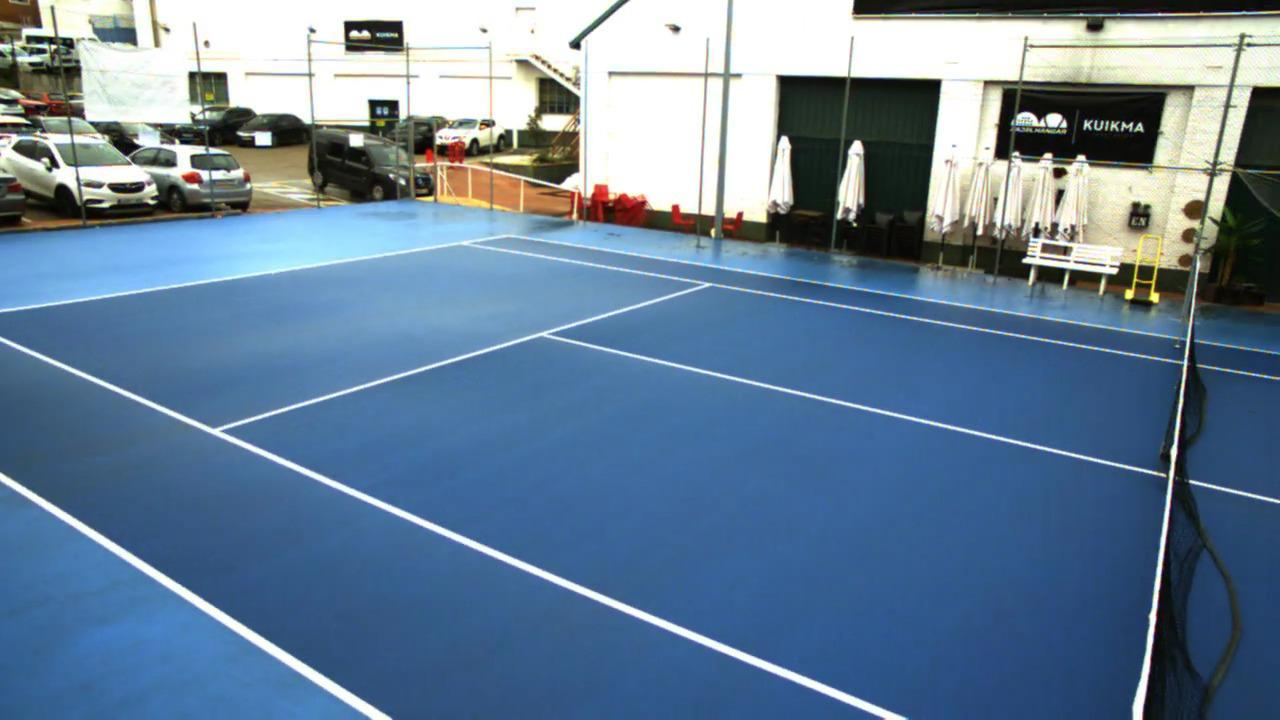cancha_tenis: (0, 239, 1280, 720)
point_f2: (450, 232, 473, 250)
point_i1: (196, 416, 235, 442)
point_i2: (694, 277, 718, 294)
point_ic1: (532, 322, 562, 345)
